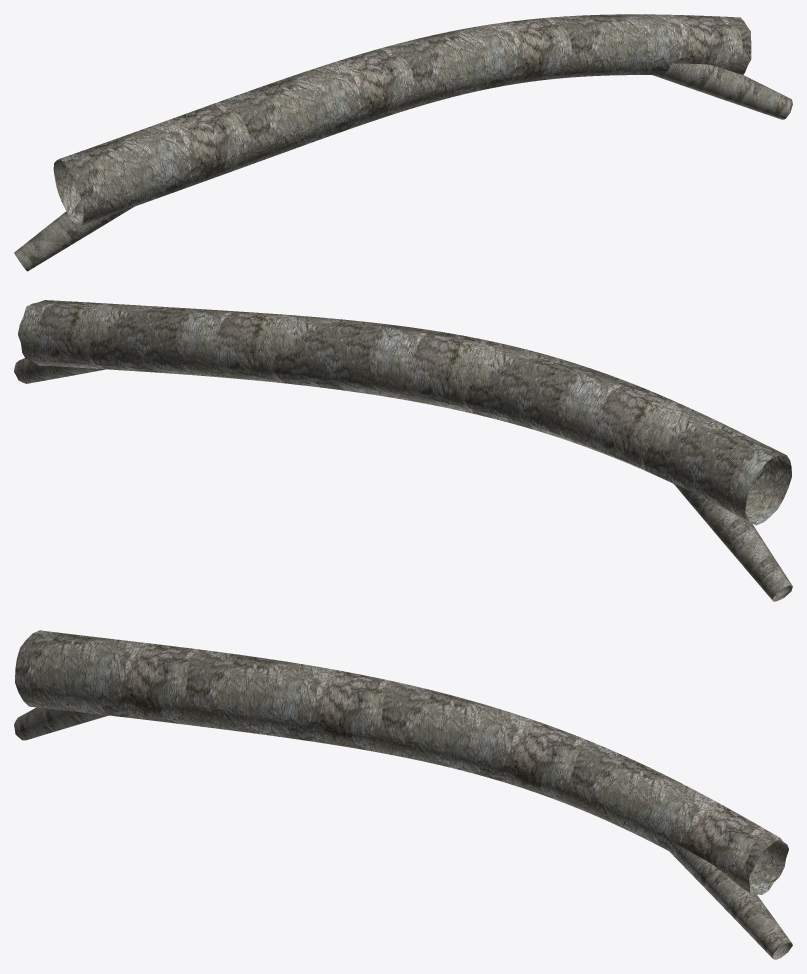
File: forest-fallen-trunk.glb
The picture shows the model from 3 angles, top to bottom: view 1: azimuth 30°, elevation 25°; view 2: azimuth 150°, elevation 25°; view 3: azimuth 330°, elevation 25°; orthographic projection. The views are drawn at different scales.
Visible parts, largest first — view 1: Arched fallen forest trunk; view 2: Arched fallen forest trunk; view 3: Arched fallen forest trunk.
Boxes of the visible parts, x1,y1,x2,y2 form: Arched fallen forest trunk: (14, 14, 792, 271); Arched fallen forest trunk: (14, 300, 792, 601); Arched fallen forest trunk: (14, 630, 792, 959).
Bounding box in the file's own units: 48.75 × 9.37 × 5.44.
1 material, 1 textured.
